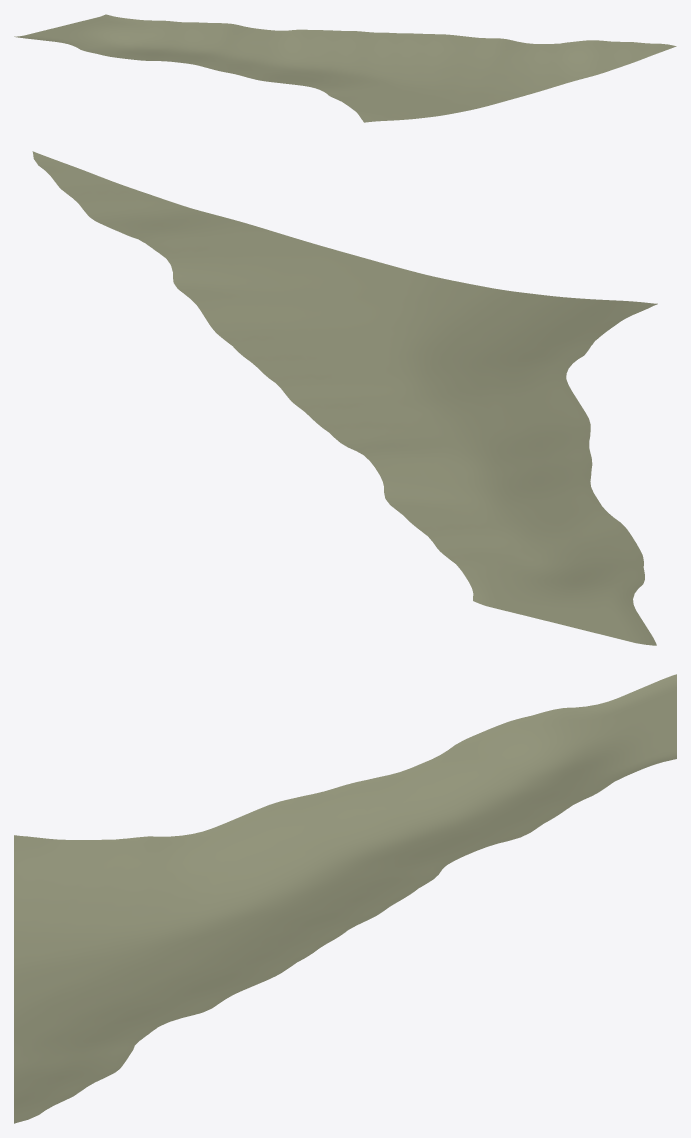
Rendered from SM_ForestBed_EastFan.fbx.
3 renders of one model, top to bottom at view 1: azimuth 30°, elevation 25°; view 2: azimuth 150°, elevation 25°; view 3: azimuth 270°, elevation 25°, orthographic. The views are drawn at different scales.
Parts seen in each view (by area): view 1: SM_ForestBed_EastFan; view 2: SM_ForestBed_EastFan; view 3: SM_ForestBed_EastFan.
Part boxes in pixels (box(x1,y1,x2,y2)): SM_ForestBed_EastFan: box(14, 14, 676, 122); SM_ForestBed_EastFan: box(32, 151, 657, 645); SM_ForestBed_EastFan: box(14, 674, 676, 1123).
Size of the model in its own units: 3859 by 2405 by 104.
